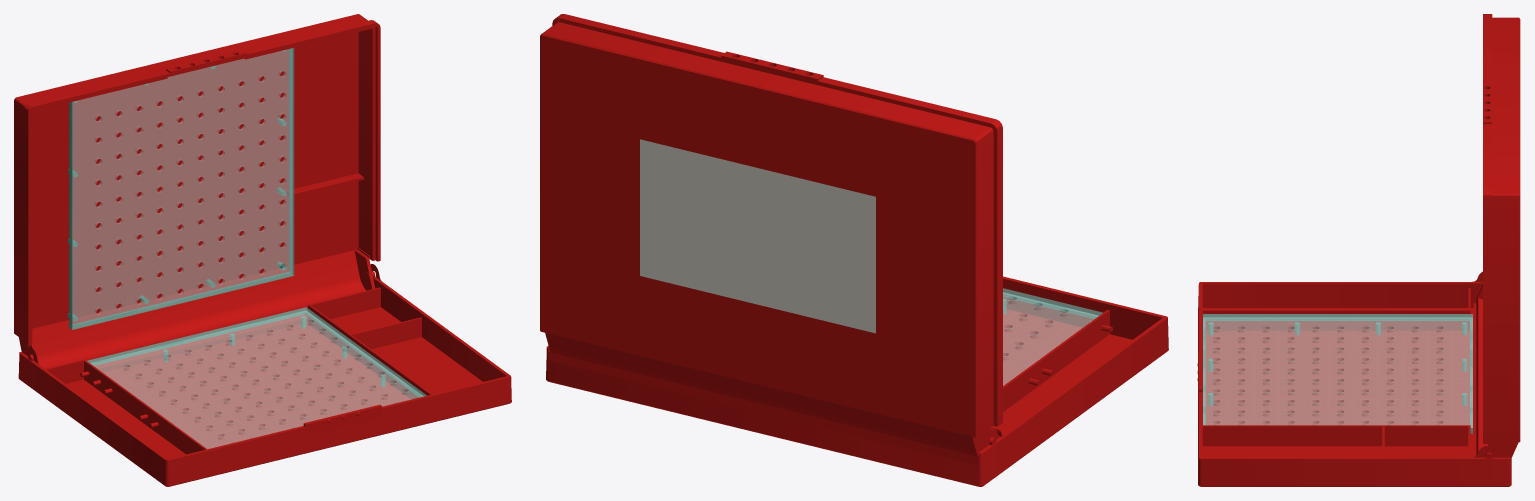
File: bs_unit_red.glb
The picture shows the model from 3 angles, left to right: view 1: azimuth 30°, elevation 25°; view 2: azimuth 150°, elevation 25°; view 3: azimuth 270°, elevation 25°; orthographic projection. The views are drawn at different scales.
Parts seen in each view (by area): view 1: lid_shell, target_grid, tray_shell, ocean_grid, lid_hinge_strip, tray_inner, sunk_tab, lid_inner; view 2: lid_shell, lid_label_slot, tray_shell, lid_hinge_strip, ocean_grid, tray_inner, sunk_tab; view 3: tray_shell, ocean_grid, lid_shell, tray_inner, lid_hinge_strip, sunk_tab.
Boxes of the visible parts, <box> form: lid_shell: <box>14,14,380,346</box>; target_grid: <box>68,48,294,329</box>; tray_shell: <box>18,277,511,486</box>; ocean_grid: <box>87,307,426,448</box>; lid_hinge_strip: <box>19,249,375,368</box>; tray_inner: <box>45,287,431,454</box>; sunk_tab: <box>166,50,246,76</box>; lid_inner: <box>286,173,363,196</box>; lid_shell: <box>540,14,1002,437</box>; lid_label_slot: <box>640,139,875,333</box>; tray_shell: <box>546,276,1168,486</box>; lid_hinge_strip: <box>545,333,990,456</box>; ocean_grid: <box>1003,288,1102,385</box>; tray_inner: <box>1003,310,1112,411</box>; sunk_tab: <box>721,51,823,85</box>; tray_shell: <box>1198,282,1511,486</box>; ocean_grid: <box>1203,314,1472,433</box>; lid_shell: <box>1483,14,1520,443</box>; tray_inner: <box>1197,288,1476,457</box>; lid_hinge_strip: <box>1476,285,1518,458</box>; sunk_tab: <box>1483,83,1492,123</box>.
Bounding box in the file's own units: 0.23 × 0.177 × 0.1736.
